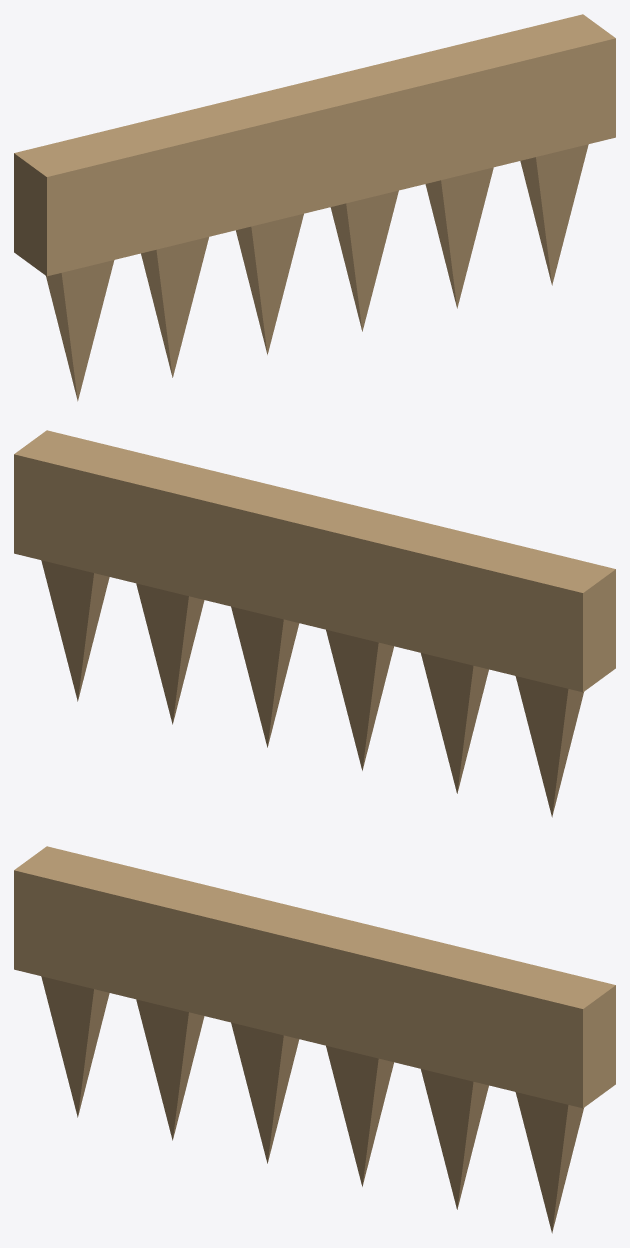
Rendered from prop-bristle-comb-br1.fbx.
3 views of the same model, one above another, from view 1: azimuth 30°, elevation 25°; view 2: azimuth 150°, elevation 25°; view 3: azimuth 330°, elevation 25° (orthographic).
Parts seen in each view (by area): view 1: prop-bristle-comb-br1; view 2: prop-bristle-comb-br1; view 3: prop-bristle-comb-br1.
Boxes of the visible parts, x1,y1,x2,y2 form: prop-bristle-comb-br1: (14, 14, 615, 401); prop-bristle-comb-br1: (14, 430, 615, 817); prop-bristle-comb-br1: (14, 846, 615, 1233).
Bounding box in the file's own units: 12 × 5 × 1.2.
